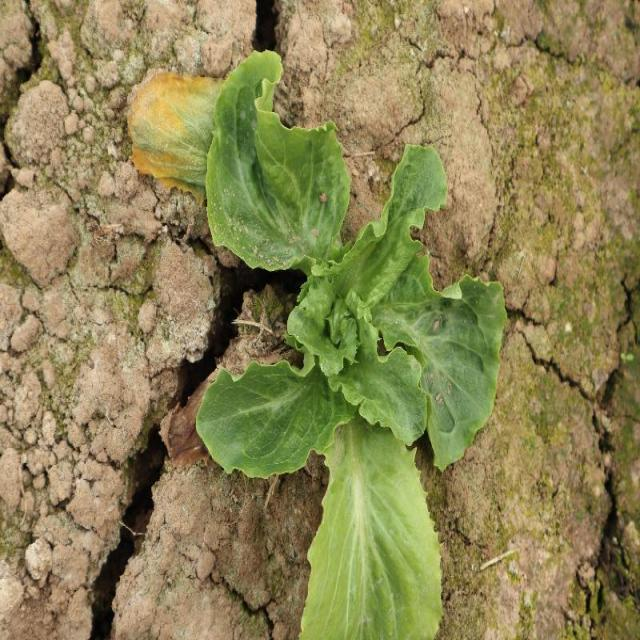crop: (195, 52, 509, 640)
